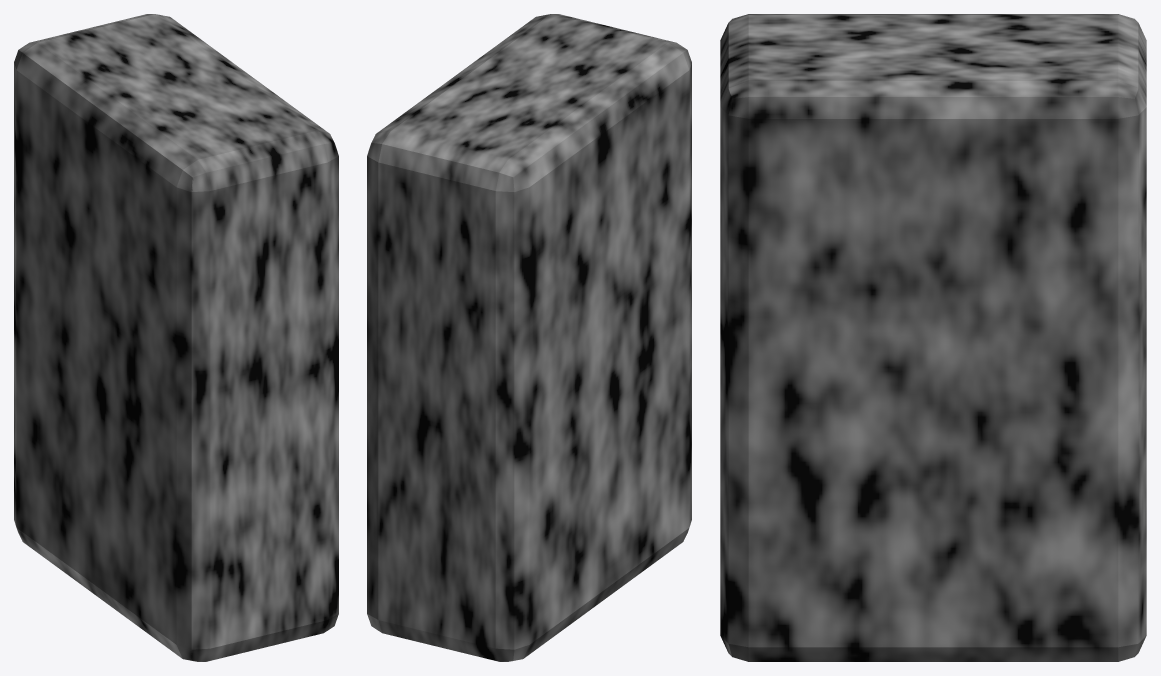
File: backpack.glb
The picture shows the model from 3 angles, left to right: view 1: azimuth 30°, elevation 25°; view 2: azimuth 150°, elevation 25°; view 3: azimuth 270°, elevation 25°; orthographic projection. The views are drawn at different scales.
Visible parts, largest first — view 1: backpack; view 2: backpack; view 3: backpack.
Boxes of the visible parts, x1,y1,x2,y2 form: backpack: (14,14,338,661); backpack: (367,14,691,661); backpack: (720,14,1146,661).
Bounding box in the file's own units: 0.15 × 0.45 × 0.3.
1 material, 1 textured.
